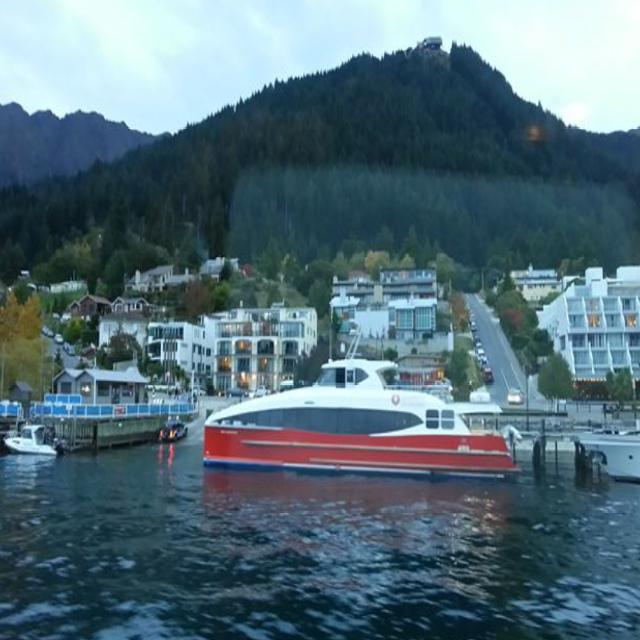houseboat: (187, 352, 515, 479)
